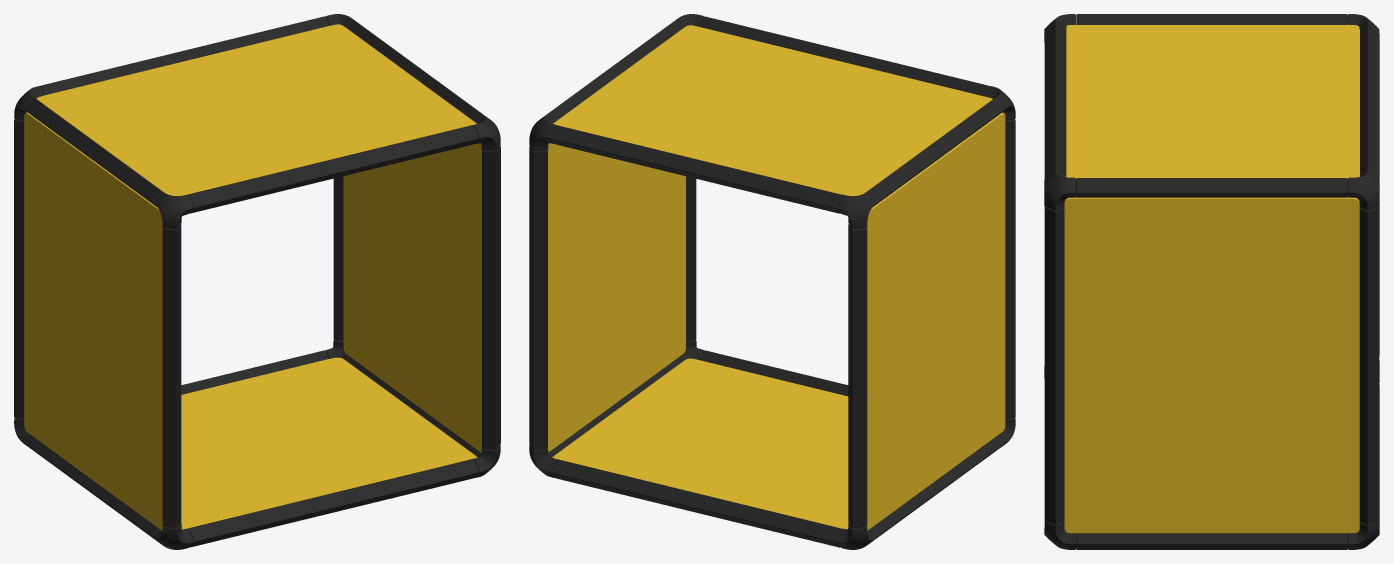
3 renders of one model, left to right at view 1: azimuth 30°, elevation 25°; view 2: azimuth 150°, elevation 25°; view 3: azimuth 270°, elevation 25°, orthographic. The views are drawn at different scales.
Visible parts, largest first — view 1: 420x329x420; view 2: 420x329x420; view 3: 420x329x420.
Boxes of the visible parts, box(x1,y1,x2,y2) form: 420x329x420: box(14, 14, 500, 549); 420x329x420: box(529, 14, 1015, 549); 420x329x420: box(1044, 14, 1379, 549).
Bounding box in the file's own units: 0.4977 × 0.4976 × 0.4063.
